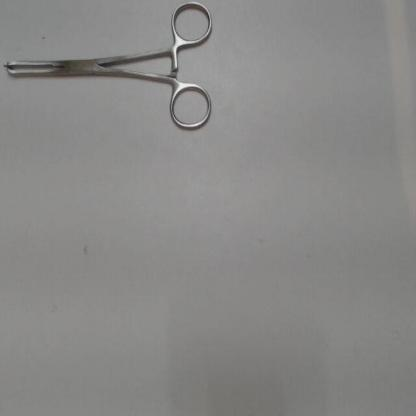Allis Tissue Forceps: (1, 0, 220, 148)
